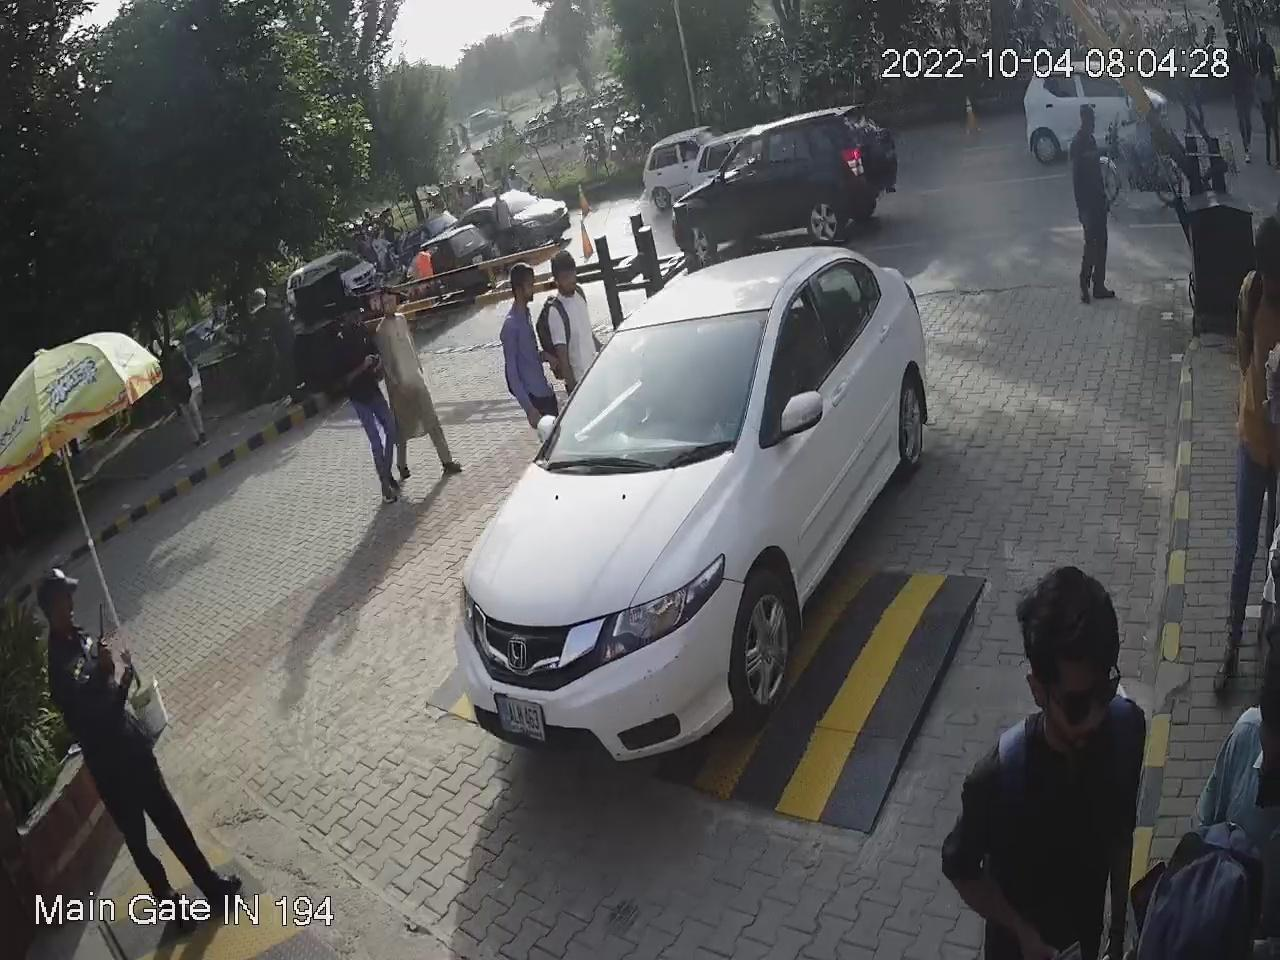windshield: (528, 308, 780, 475)
